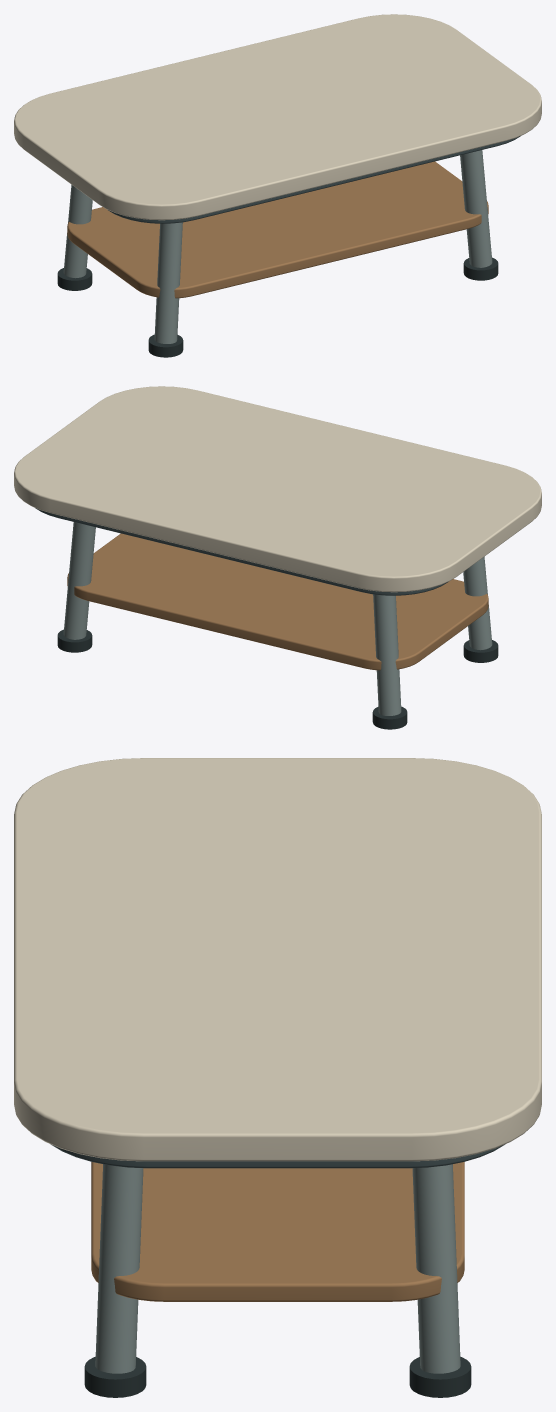
File: coffee-table-110.glb
The picture shows the model from 3 angles, top to bottom: view 1: azimuth 30°, elevation 25°; view 2: azimuth 150°, elevation 25°; view 3: azimuth 270°, elevation 25°; orthographic projection. The views are drawn at different scales.
Parts seen in each view (by area): view 1: coffee-table-110 / 01 • warm porcelain paint, coffee-table-110 / 21 / honey ash timber, coffee-table-110 / 05 • brushed titanium, coffee-table-110 / 04 • graphite gasket, coffee-table-110 / 06 • dark anodized frame; view 2: coffee-table-110 / 01 • warm porcelain paint, coffee-table-110 / 21 / honey ash timber, coffee-table-110 / 05 • brushed titanium, coffee-table-110 / 04 • graphite gasket, coffee-table-110 / 06 • dark anodized frame; view 3: coffee-table-110 / 01 • warm porcelain paint, coffee-table-110 / 21 / honey ash timber, coffee-table-110 / 05 • brushed titanium, coffee-table-110 / 04 • graphite gasket, coffee-table-110 / 06 • dark anodized frame.
Part boxes in pixels (x1,y1,x2,y2): coffee-table-110 / 01 • warm porcelain paint: (14,14,541,220); coffee-table-110 / 21 / honey ash timber: (67,161,488,298); coffee-table-110 / 05 • brushed titanium: (63,150,492,343); coffee-table-110 / 04 • graphite gasket: (57,257,498,357); coffee-table-110 / 06 • dark anodized frame: (108,136,520,223); coffee-table-110 / 01 • warm porcelain paint: (14,386,541,592); coffee-table-110 / 21 / honey ash timber: (67,533,488,670); coffee-table-110 / 05 • brushed titanium: (63,522,492,715); coffee-table-110 / 04 • graphite gasket: (57,629,498,729); coffee-table-110 / 06 • dark anodized frame: (35,508,447,595); coffee-table-110 / 01 • warm porcelain paint: (14,758,541,1161); coffee-table-110 / 21 / honey ash timber: (91,1162,464,1301); coffee-table-110 / 05 • brushed titanium: (95,1164,460,1373); coffee-table-110 / 04 • graphite gasket: (84,1356,471,1397); coffee-table-110 / 06 • dark anodized frame: (50,1144,505,1168).
Size of the model in its own units: 1.1 by 0.41 by 0.65.
